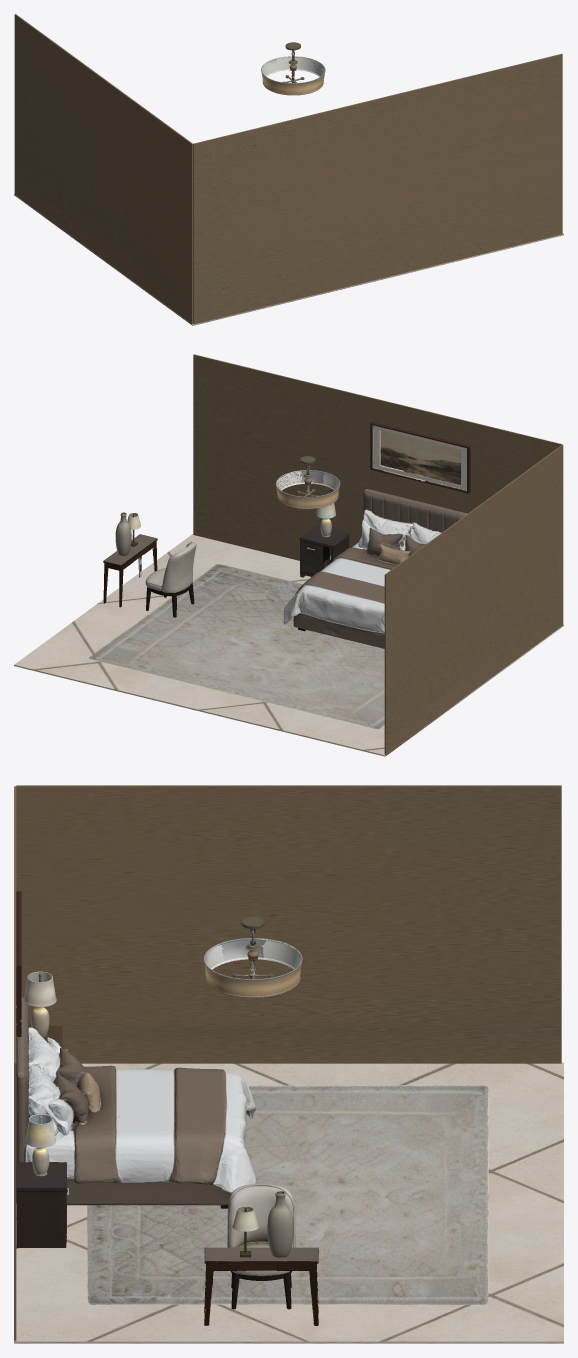
The model's file is image-bedroom.glb.
3 renders of one model, top to bottom at view 1: azimuth 30°, elevation 25°; view 2: azimuth 150°, elevation 25°; view 3: azimuth 270°, elevation 25°, orthographic. The views are drawn at different scales.
Parts seen in each view (by area): view 1: wall_north_01, wall_east_01, geometry_0.001, floor_01; view 2: wall_north_01, wall_east_01, geometry_0.005, floor_01, geometry_0.002, geometry_0, geometry_0.003, geometry_0.001, geometry_0.006, geometry_0.004, geometry_0.011; view 3: wall_east_01, geometry_0.005, floor_01, geometry_0.002, geometry_0.001, geometry_0.006, geometry_0.003, geometry_0.004, wall_north_01, geometry_0.008, geometry_0.011, geometry_0.009 (+2 smaller).
Boxes of the visible parts, <box> form: wall_north_01: <box>193,54,562,325</box>; wall_east_01: <box>14,14,193,324</box>; geometry_0.001: <box>261,42,325,95</box>; floor_01: <box>14,194,563,325</box>; wall_north_01: <box>193,354,562,560</box>; wall_east_01: <box>384,445,563,755</box>; geometry_0.005: <box>89,564,384,729</box>; floor_01: <box>14,534,563,756</box>; geometry_0.002: <box>283,489,467,648</box>; geometry_0: <box>370,422,470,493</box>; geometry_0.003: <box>145,542,196,617</box>; geometry_0.001: <box>275,456,340,509</box>; geometry_0.006: <box>299,525,349,577</box>; geometry_0.004: <box>103,534,157,607</box>; geometry_0.011: <box>115,512,131,555</box>; wall_east_01: <box>16,785,561,1063</box>; geometry_0.005: <box>87,1085,488,1305</box>; floor_01: <box>14,1062,563,1343</box>; geometry_0.002: <box>16,997,255,1208</box>; geometry_0.001: <box>203,916,302,998</box>; geometry_0.006: <box>16,1162,68,1247</box>; geometry_0.003: <box>227,1184,295,1309</box>; geometry_0.004: <box>204,1247,318,1325</box>; wall_north_01: <box>14,786,16,1340</box>; geometry_0.008: <box>24,971,56,1037</box>; geometry_0.011: <box>267,1191,293,1257</box>; geometry_0.009: <box>25,1114,56,1176</box>.
Bounding box in the file's own units: 6 × 2.8 × 5.
15 materials, 15 textured.
